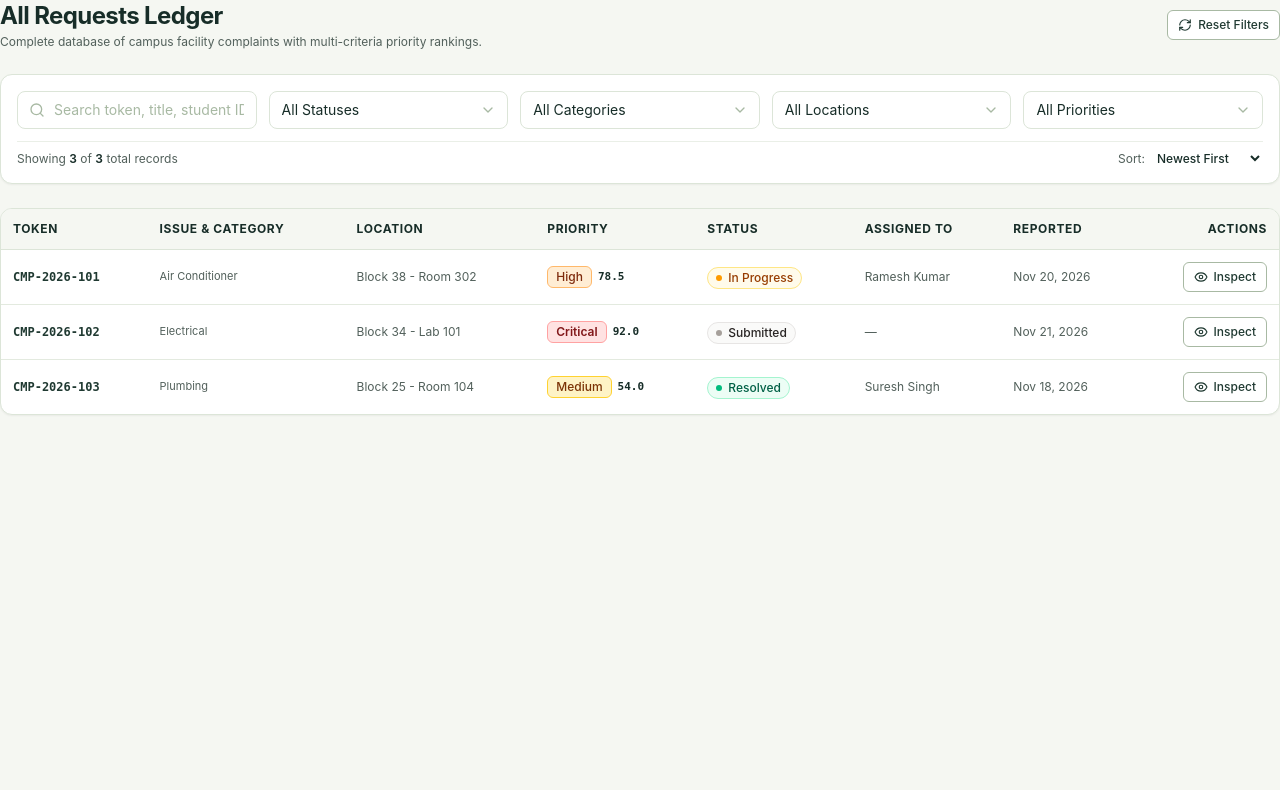
Scenario: FIPP 2.0 Phase 4 — Administrator Control Centre Tests › 3. renders AdminAllRequestsPage with filter toolbar, table and handles drawer interaction
Expected: the heading "All Requests Ledger" is shown, x1=0 y1=1 x2=223 y2=30
Expected: the text "CMP-2026-101" is shown, x1=1 y1=250 x2=148 y2=304
Note: Click inspect
Click the button "Inspect" in the row of "CMP-2026-101": [1225, 277] box x1=1183 y1=262 x2=1267 y2=292
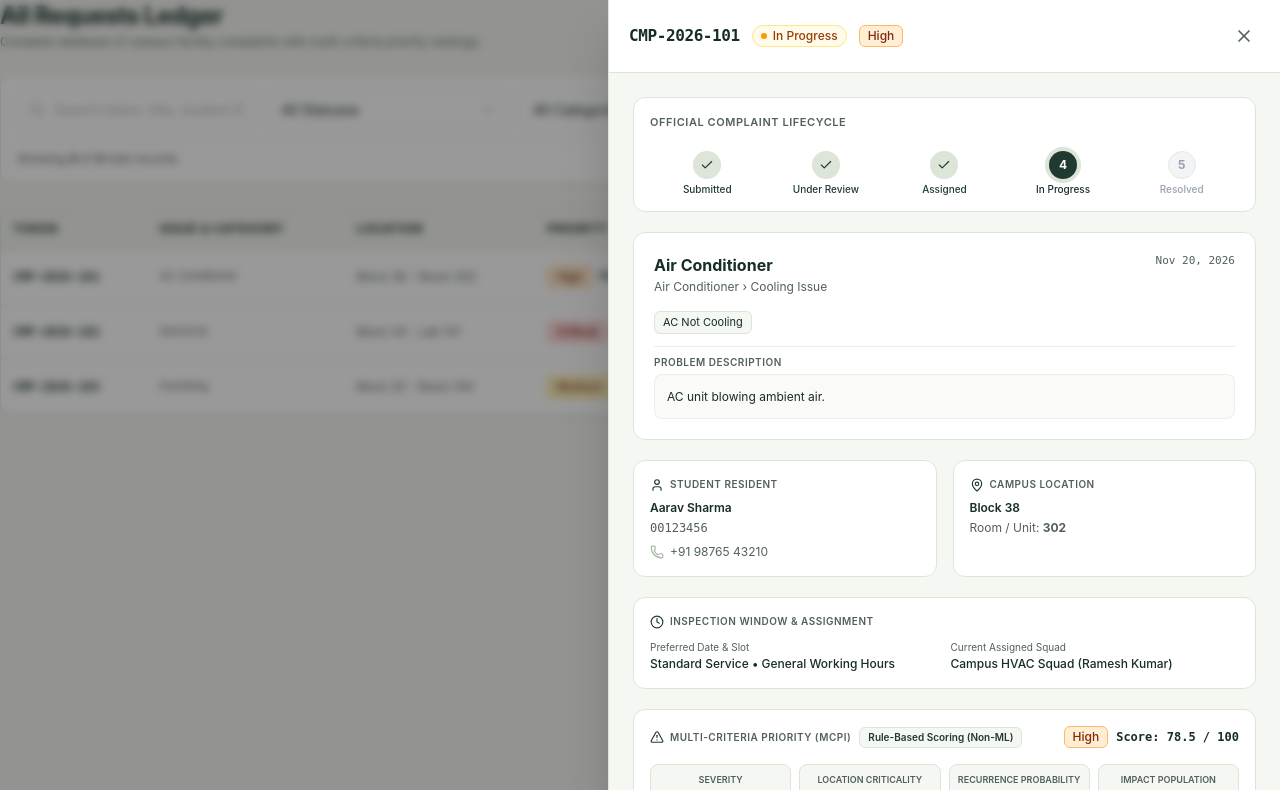
Expected: the text "Official Complaint Lifecycle" is shown, x1=650 y1=115 x2=846 y2=129
